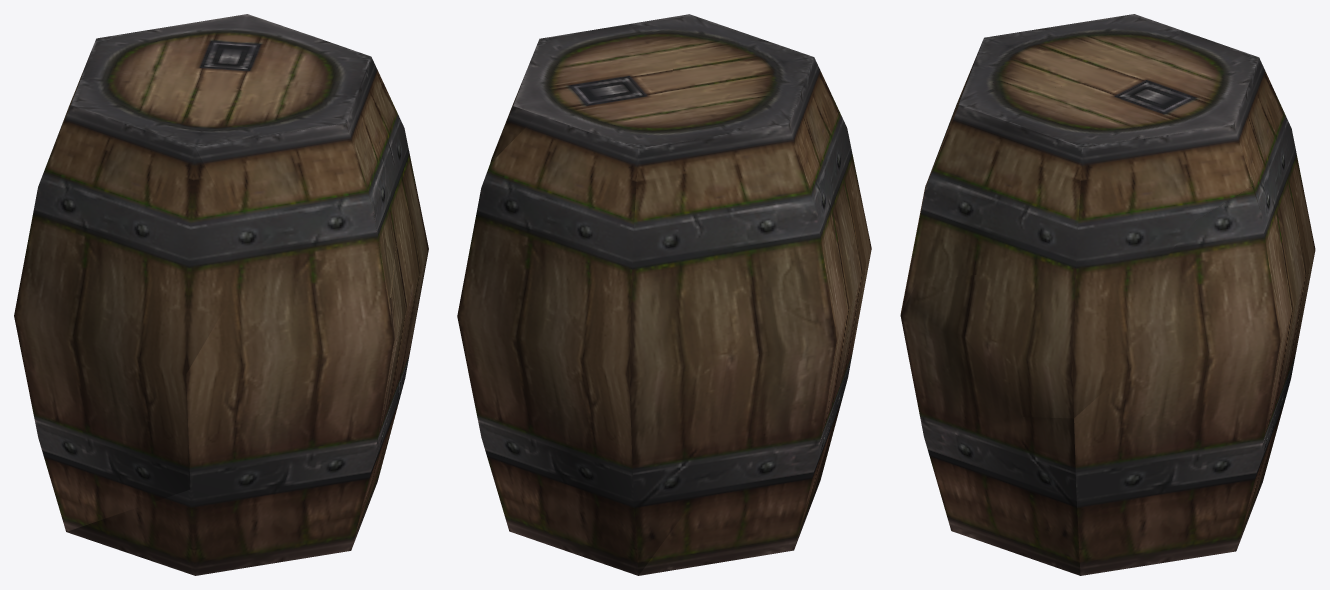
The model's file is mutong03@idle.FBX.
The picture shows the model from 3 angles, left to right: view 1: azimuth 30°, elevation 25°; view 2: azimuth 150°, elevation 25°; view 3: azimuth 270°, elevation 25°; orthographic projection.
Parts seen in each view (by area): view 1: mutong_po07, Object09, mutong_po06, Object08, Object05; view 2: Object08, Object09, mutong_po06, Object05, mutong_po07; view 3: Object08, mutong_po06, mutong_po07, Object05, Object09.
Boxes of the visible parts, x1,y1,x2,y2 form: mutong_po07: [67, 90, 419, 575]; Object09: [14, 72, 243, 531]; mutong_po06: [220, 37, 428, 343]; Object08: [42, 19, 217, 175]; Object05: [193, 14, 314, 82]; Object08: [457, 96, 815, 575]; Object09: [638, 57, 871, 575]; mutong_po06: [500, 14, 689, 136]; Object05: [490, 69, 669, 163]; mutong_po07: [673, 14, 846, 548]; Object08: [1074, 14, 1315, 575]; mutong_po06: [901, 79, 1194, 418]; mutong_po07: [900, 38, 1080, 575]; Object05: [1105, 75, 1252, 220]; Object09: [951, 14, 1139, 118].
Bounding box in the file's own units: 1.12 × 1.2 × 1.06.
